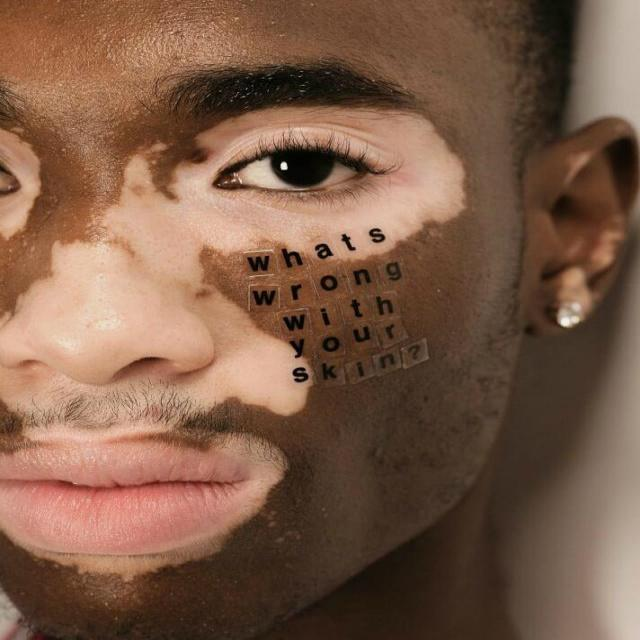vitiligo: (0, 91, 464, 260), (5, 268, 274, 440), (0, 434, 309, 558)
